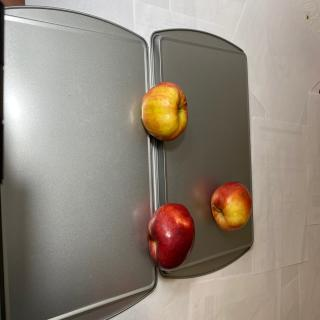Apple: (147, 203, 195, 272), (141, 81, 188, 141), (211, 182, 252, 232)
